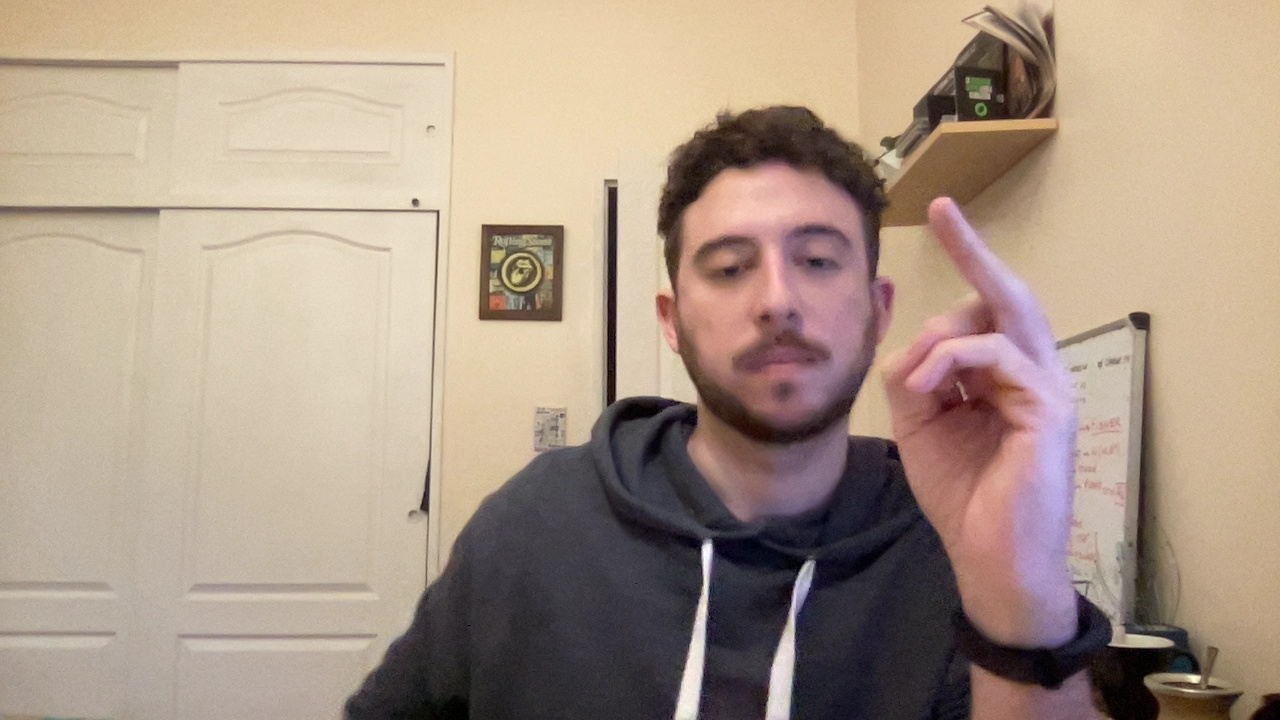anular: (868, 194, 1115, 567)
